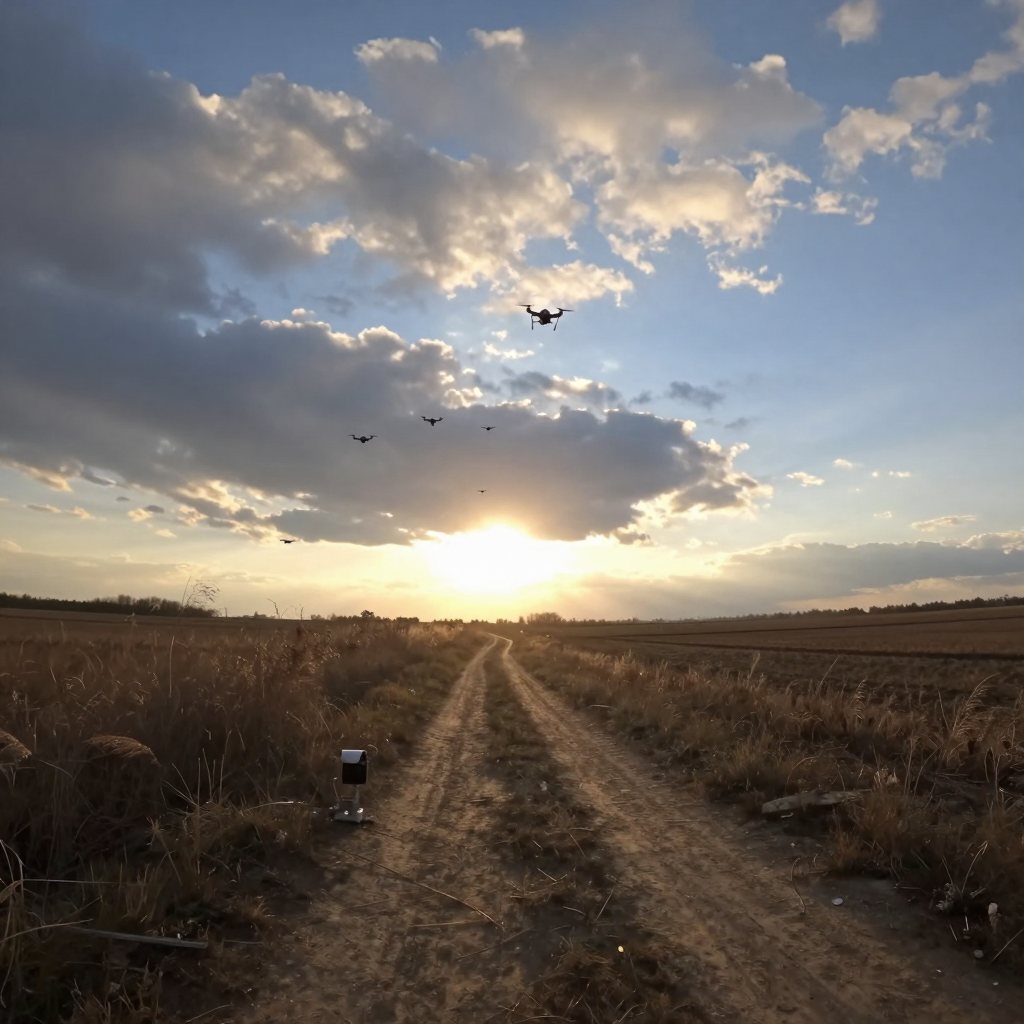drone: (526, 305, 574, 331), (348, 434, 379, 443), (421, 416, 443, 426), (480, 426, 496, 432), (279, 539, 298, 544), (477, 489, 488, 494)
